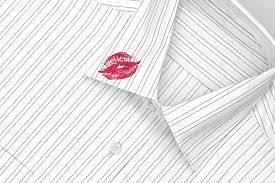kimchi: (103, 52, 140, 78)
